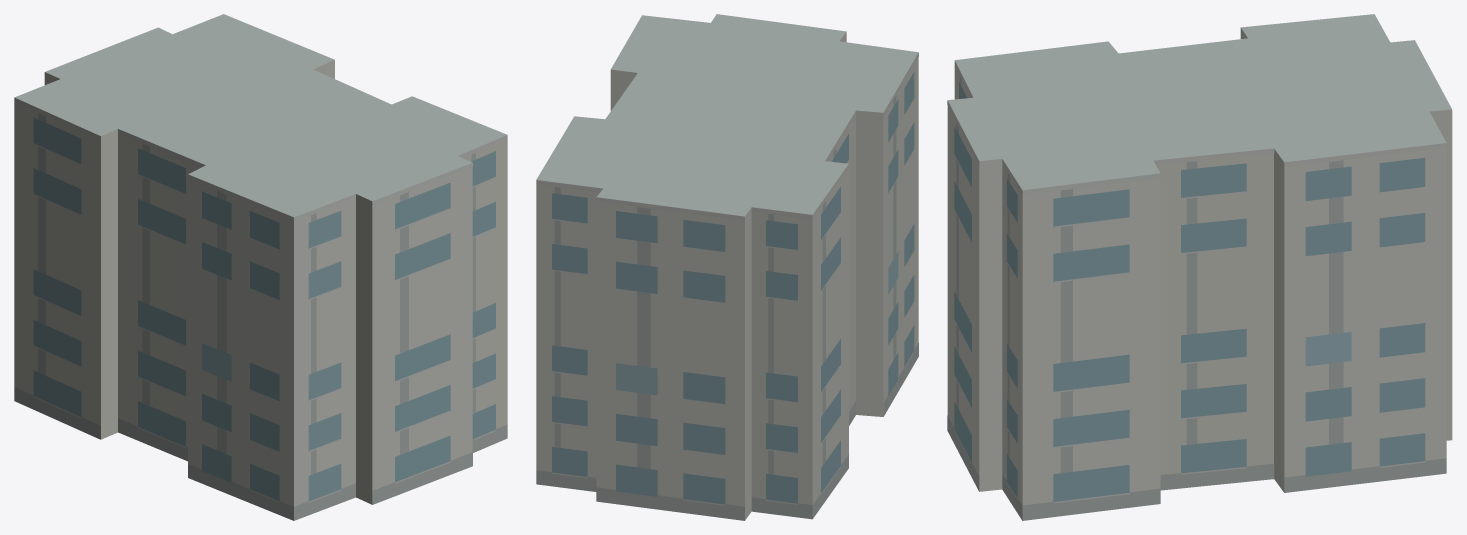
The model's file is survey-upis-32819680.glb.
3 renders of one model, left to right at view 1: azimuth 30°, elevation 25°; view 2: azimuth 150°, elevation 25°; view 3: azimuth 270°, elevation 25°, orthographic. The views are drawn at different scales.
Parts seen in each view (by area): view 1: survey-upis-32819680.tmp; view 2: survey-upis-32819680.tmp; view 3: survey-upis-32819680.tmp.
Boxes of the visible parts, x1,y1,x2,y2 form: survey-upis-32819680.tmp: [14, 14, 507, 520]; survey-upis-32819680.tmp: [536, 14, 918, 520]; survey-upis-32819680.tmp: [947, 14, 1452, 520].
Bounding box in the file's own units: 18.76 × 16.4 × 22.71.
